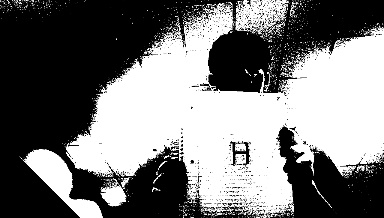H: (226, 139, 251, 164)
